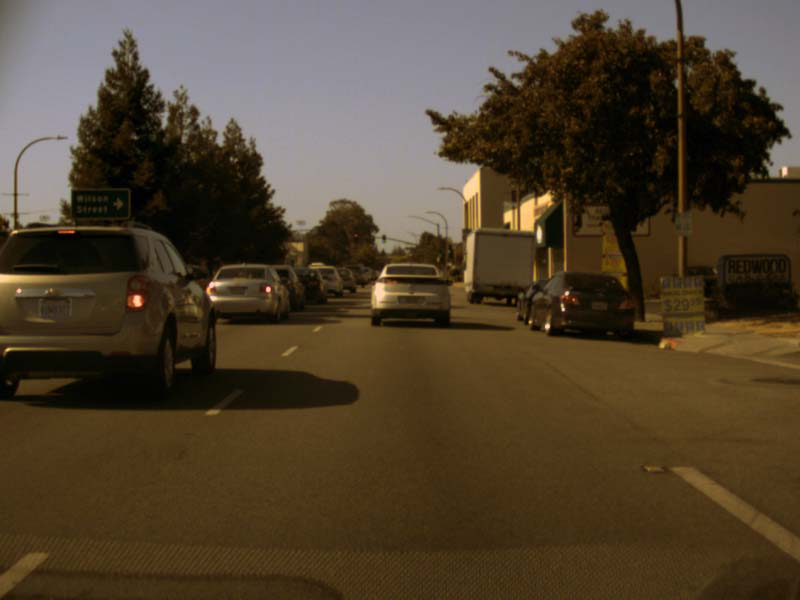Green: (446, 248, 451, 257), (437, 252, 442, 259), (382, 234, 385, 242)
Red: (353, 233, 358, 242)
